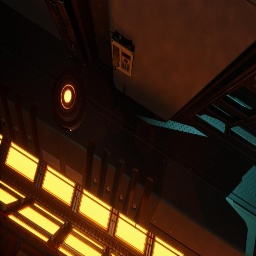EmergencyPhone ,: (106, 30, 135, 76)
